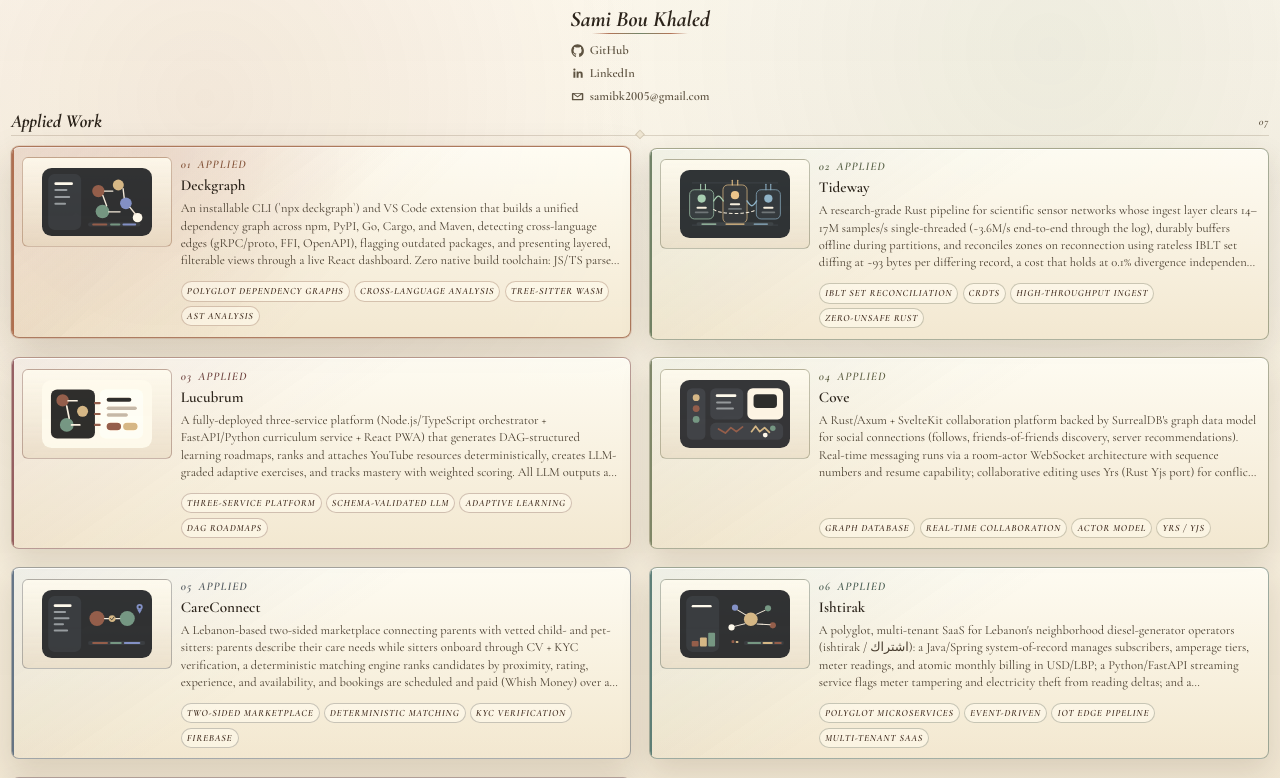
Scenario: portfolio app › opens Cove project details with the live demo link
Click the 4th button: (959, 454) [649,358,1269,550]
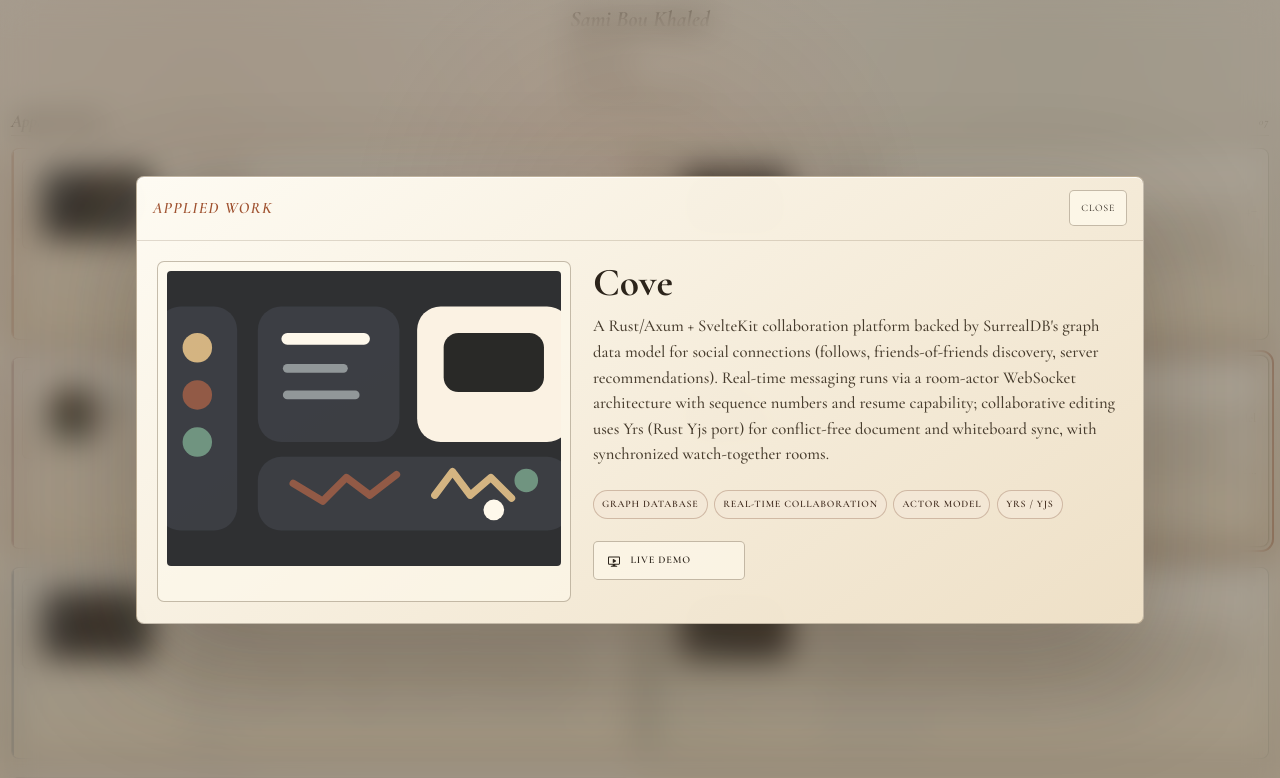
Expected: the heading "Cove" is shown, [593,259,673,306]
Expected: the text "synchronized watch-together rooms" is shown, [593,316,1115,464]
